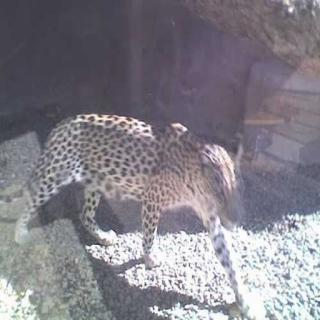Leopard: (8, 115, 244, 311)
